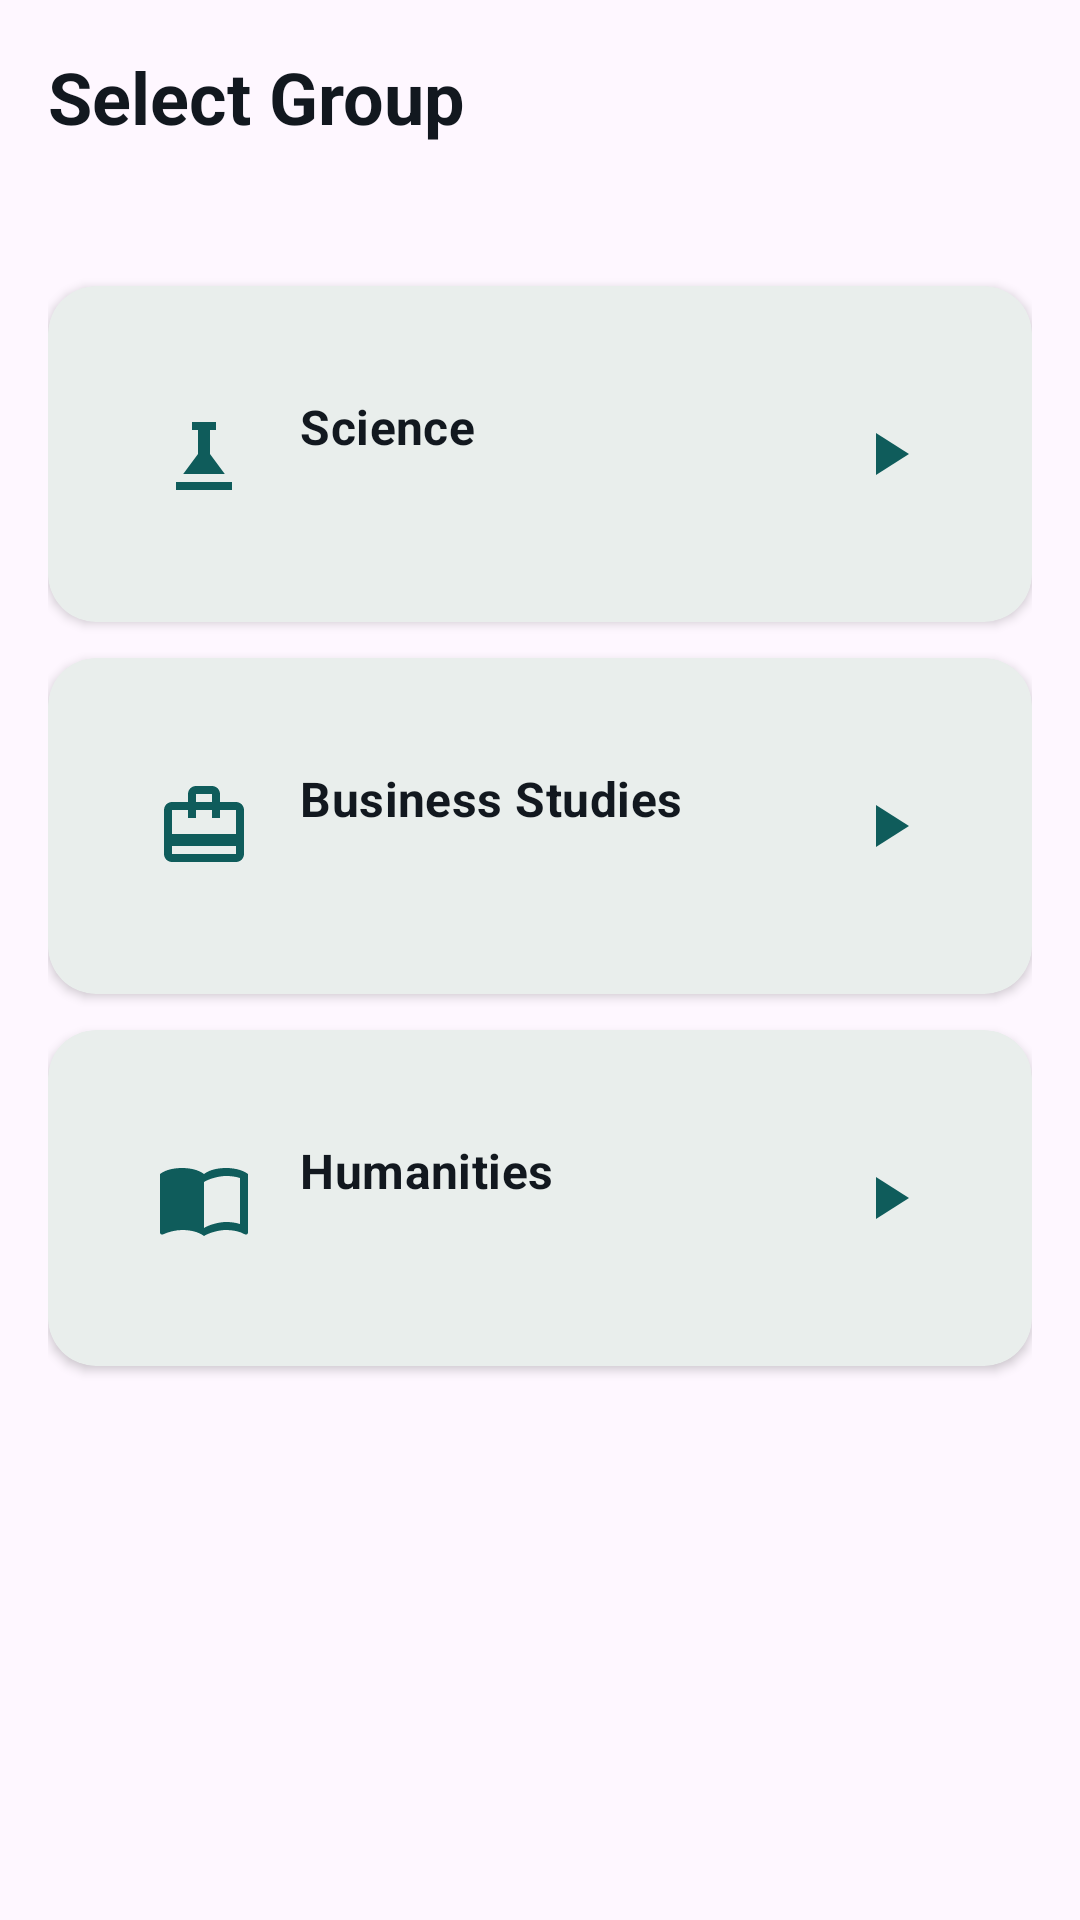

Screen size 1080 x 1920. Icon name, then its box in pixels as (x1, y1, x2, y2):
chevron right: (876, 433, 909, 475), (876, 805, 909, 847), (876, 1177, 909, 1219)
